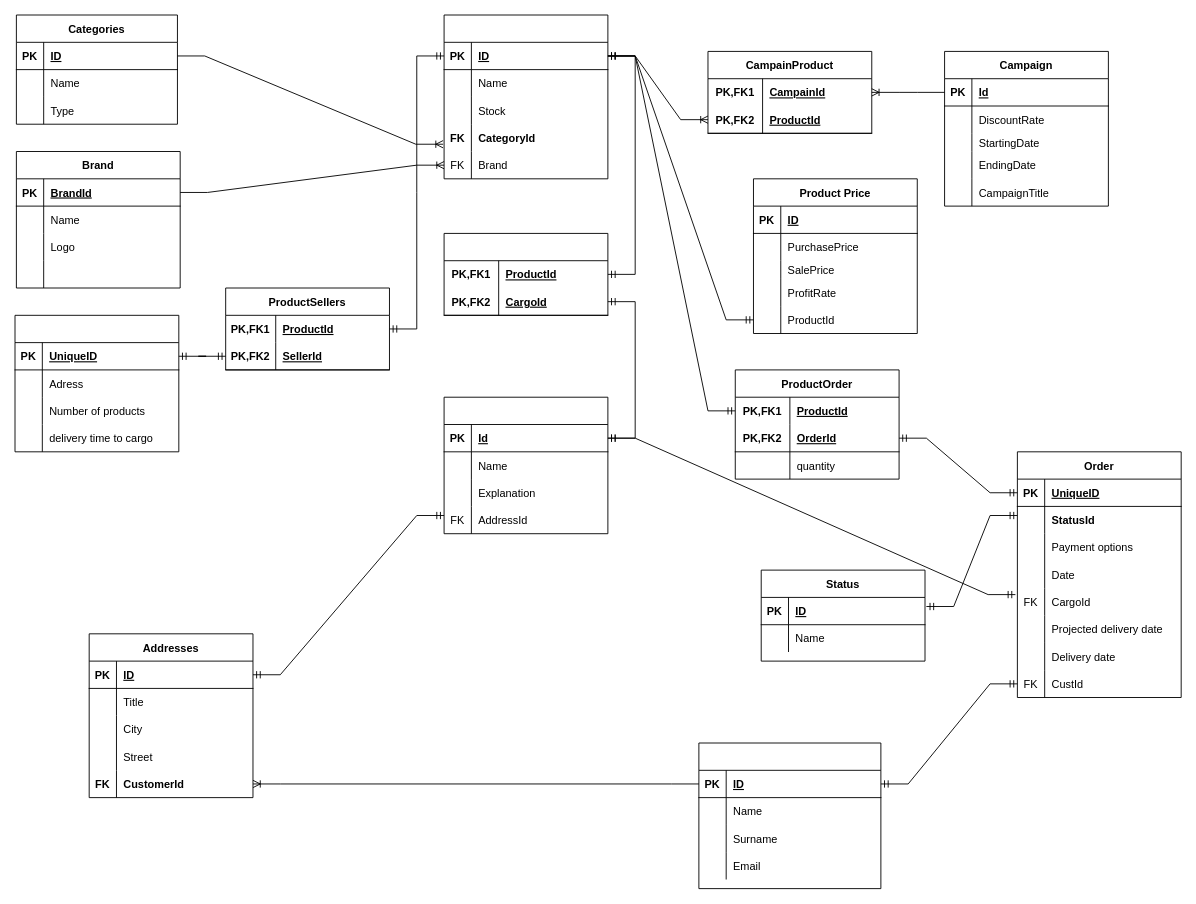
This 1196x904 diagram has some shape labels left out. The shapes that lost their labels are listed below. From the top down, each one's box as (x1, y1, x2, y2) in pixels, then its label:
(443, 14, 608, 179): Products
(443, 233, 608, 315): ProductCargo
(14, 314, 179, 452): Seller
(443, 396, 608, 534): Cargo
(698, 742, 881, 889): Customers
